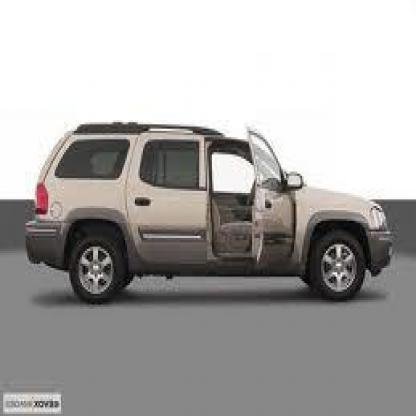Vehicle: (29, 122, 397, 309)
